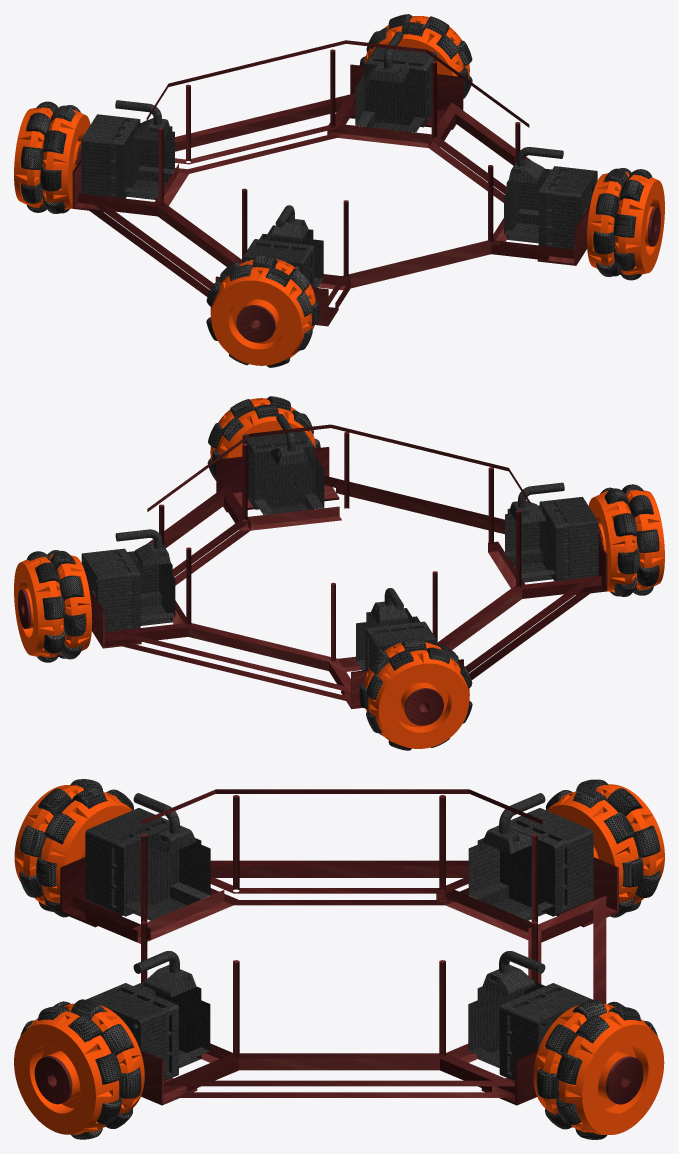
File: TeamARobot.obj
3 renders of one model, top to bottom at view 1: azimuth 30°, elevation 25°; view 2: azimuth 150°, elevation 25°; view 3: azimuth 270°, elevation 25°, orthographic. The views are drawn at different scales.
Parts seen in each view (by area): view 1: Motors_Part10_3, Frame_Part21Brace_3, OmniWheelFrame_4.000_TheRealOmniWheel_3.003, vexta30k.housing_vexta30k.housing_2, loller_4_loller_9, loller_3_loller_57, loller_1_loller_37, loller_2_loller_56, Top_plate_Part20EquipmentPlate, OmniWheelFrame_1.000_TheRealOmniWheel_2.003; view 2: Motors_Part10_3, Frame_Part21Brace_3, OmniWheelFrame_4.000_TheRealOmniWheel_3.003, vexta30k.housing_vexta30k.housing_2, loller_1_loller_37, loller_2_loller_56, loller_3_loller_57, loller_4_loller_9, Top_plate_Part20EquipmentPlate, OmniWheelFrame_3.001_TheRealOmniWheel.002; view 3: Motors_Part10_3, Frame_Part21Brace_3, OmniWheelFrame_4.000_TheRealOmniWheel_3.003, vexta30k.housing_vexta30k.housing_2, loller_2_loller_56, loller_4_loller_9, loller_1_loller_37, loller_3_loller_57, Top_plate_Part20EquipmentPlate, OmniWheelFrame_4.001_TheRealOmniWheel_3.002, OmniWheelFrame_2.001_TheRealOmniWheel_1.002.
Boxes of the visible parts, left/top/right/bottom form: Motors_Part10_3: left=81, top=31, right=597, bottom=287; Frame_Part21Brace_3: left=78, top=49, right=574, bottom=311; OmniWheelFrame_4.000_TheRealOmniWheel_3.003: left=14, top=16, right=664, bottom=365; vexta30k.housing_vexta30k.housing_2: left=72, top=64, right=590, bottom=326; loller_4_loller_9: left=593, top=168, right=652, bottom=280; loller_3_loller_57: left=21, top=101, right=80, bottom=213; loller_1_loller_37: left=206, top=256, right=319, bottom=367; loller_2_loller_56: left=359, top=14, right=472, bottom=98; Top_plate_Part20EquipmentPlate: left=146, top=40, right=529, bottom=127; OmniWheelFrame_1.000_TheRealOmniWheel_2.003: left=236, top=305, right=275, bottom=342; Motors_Part10_3: left=81, top=414, right=598, bottom=670; Frame_Part21Brace_3: left=105, top=432, right=601, bottom=702; OmniWheelFrame_4.000_TheRealOmniWheel_3.003: left=14, top=398, right=664, bottom=748; vexta30k.housing_vexta30k.housing_2: left=88, top=447, right=607, bottom=708; loller_1_loller_37: left=600, top=484, right=659, bottom=596; loller_2_loller_56: left=27, top=550, right=85, bottom=662; loller_3_loller_57: left=359, top=638, right=472, bottom=750; loller_4_loller_9: left=207, top=396, right=320, bottom=480; Top_plate_Part20EquipmentPlate: left=147, top=424, right=530, bottom=511; OmniWheelFrame_3.001_TheRealOmniWheel.002: left=404, top=688, right=443, bottom=725; Motors_Part10_3: left=85, top=793, right=593, bottom=1080; Frame_Part21Brace_3: left=72, top=795, right=606, bottom=1097; OmniWheelFrame_4.000_TheRealOmniWheel_3.003: left=14, top=784, right=664, bottom=1134; vexta30k.housing_vexta30k.housing_2: left=60, top=857, right=618, bottom=1105; loller_2_loller_56: left=536, top=999, right=657, bottom=1139; loller_4_loller_9: left=20, top=999, right=141, bottom=1139; loller_1_loller_37: left=19, top=779, right=133, bottom=917; loller_3_loller_57: left=546, top=779, right=660, bottom=917; Top_plate_Part20EquipmentPlate: left=142, top=789, right=542, bottom=824; OmniWheelFrame_4.001_TheRealOmniWheel_3.002: left=34, top=1056, right=72, bottom=1104; OmniWheelFrame_2.001_TheRealOmniWheel_1.002: left=605, top=1056, right=643, bottom=1104.
Size of the model in its own units: 0.6492 by 0.1633 by 0.65.
5 materials, 5 textured.
